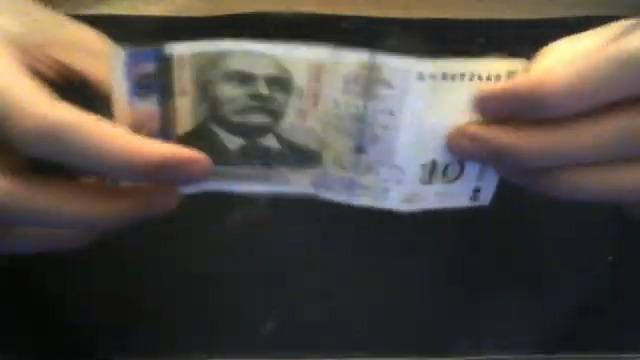10leva: (159, 40, 530, 215)
